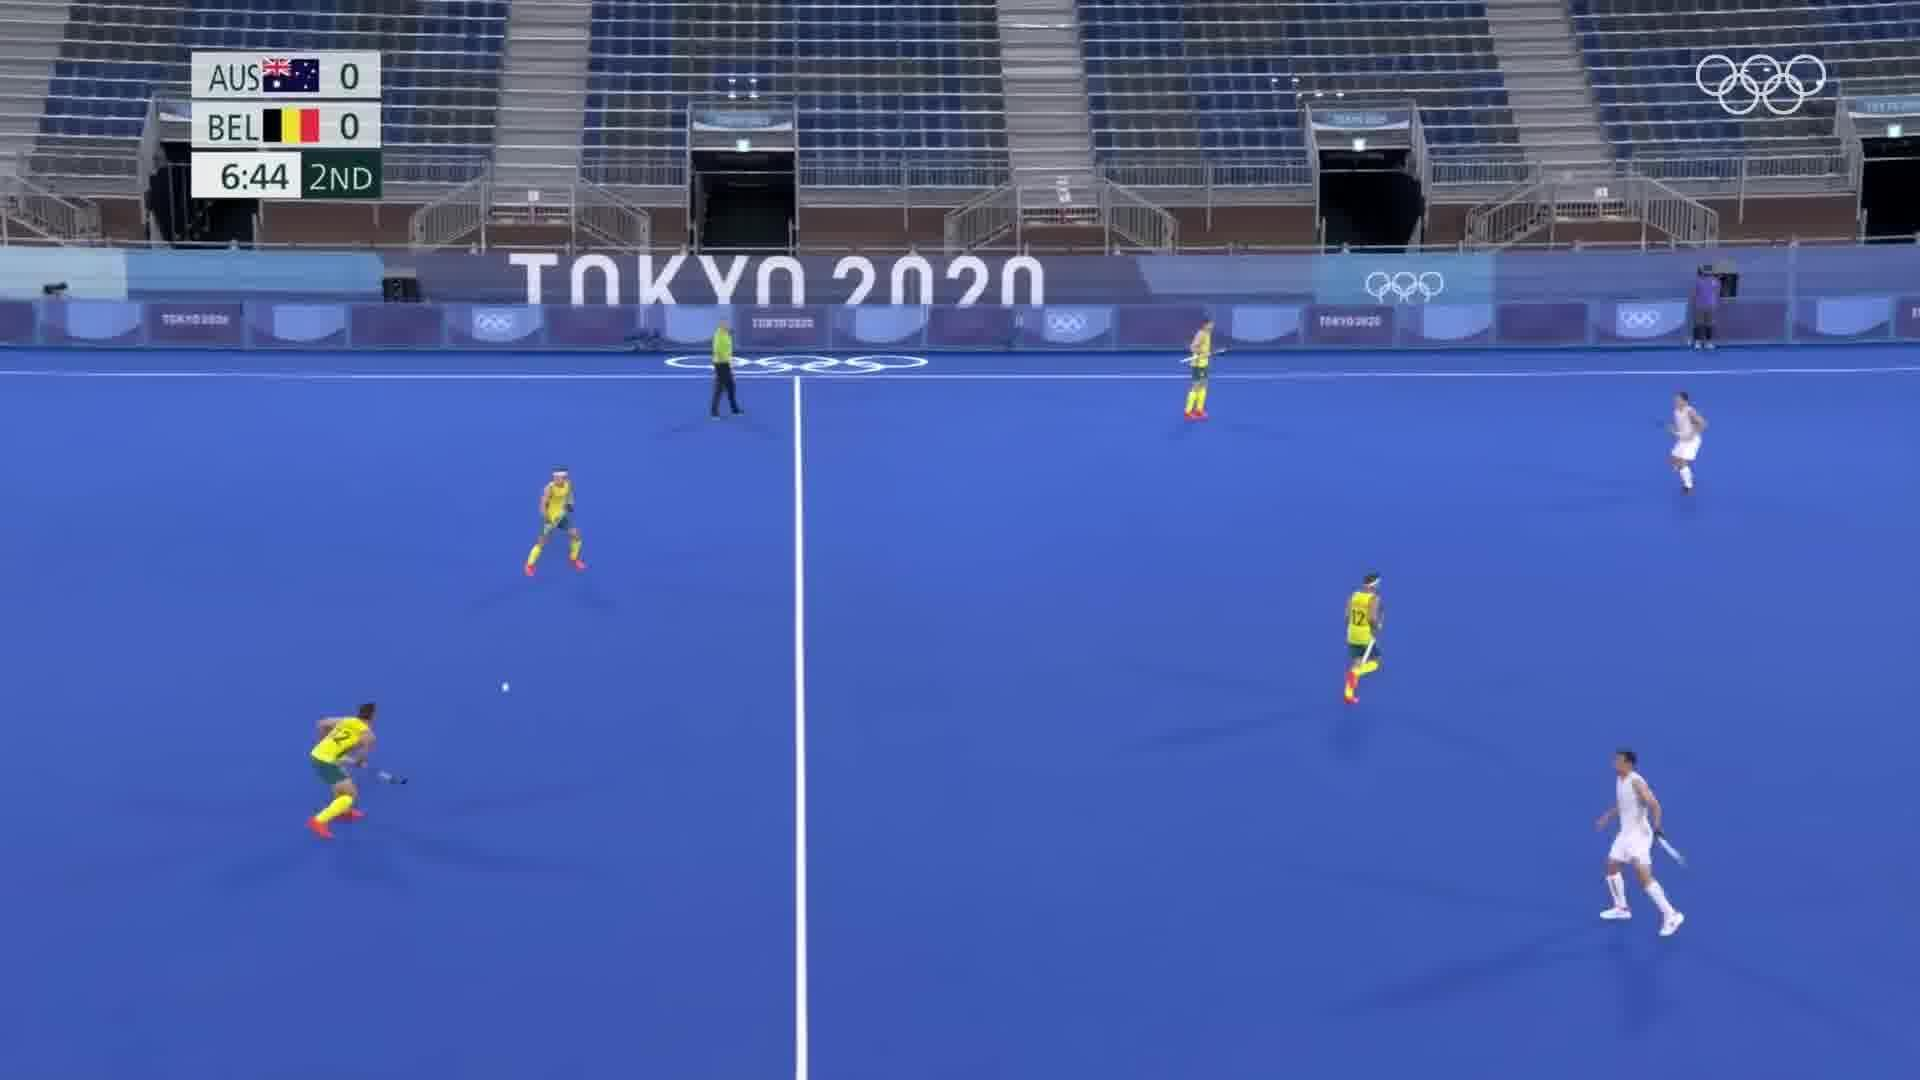ball: (490, 678, 517, 696)
